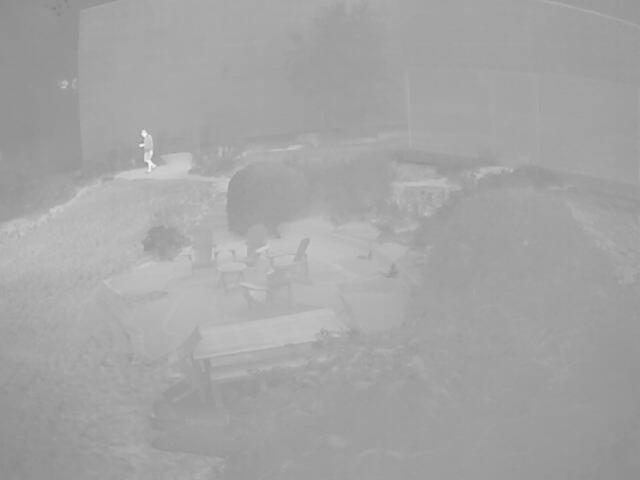person: (139, 129, 157, 175)
